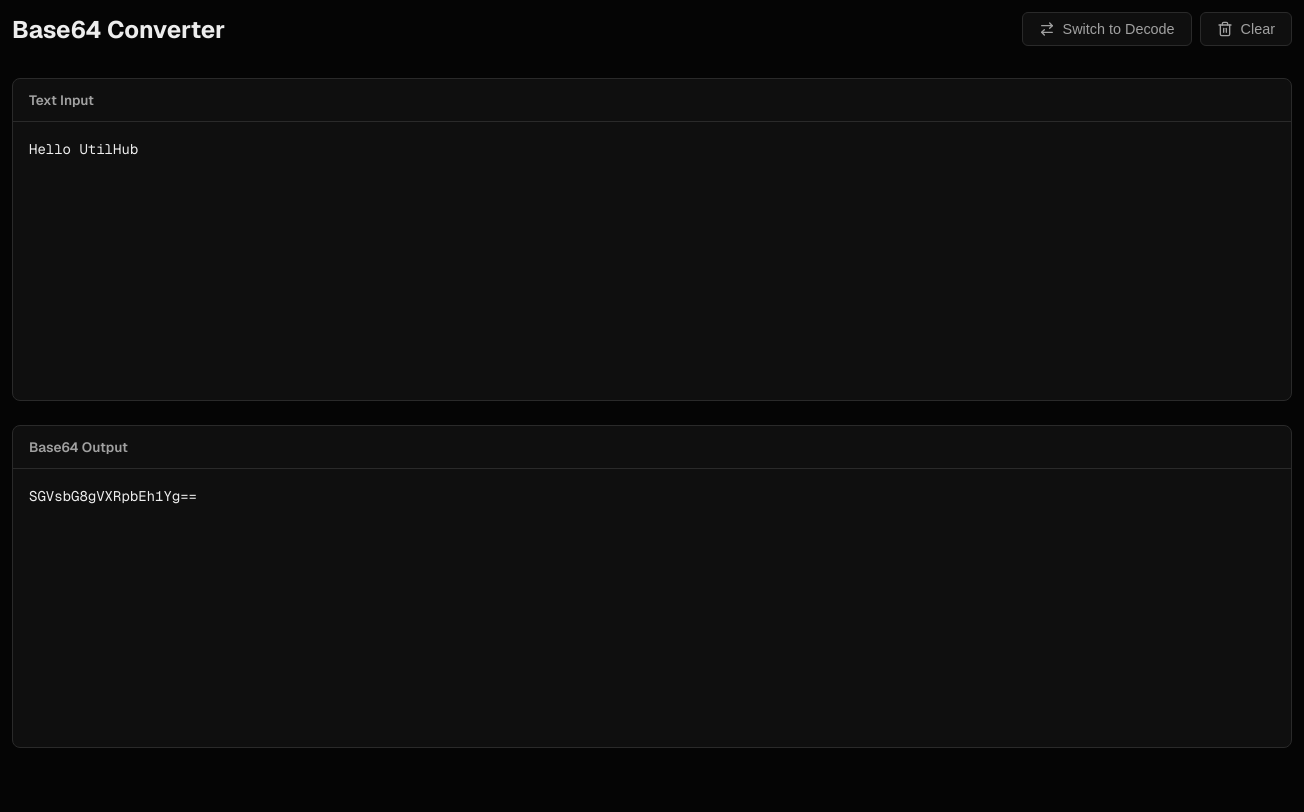
Test case: Base64Tool › switches mode and preserves decoded value
Click the button titled "Switch Mode" at (1107, 29), box [1022,12,1192,46]
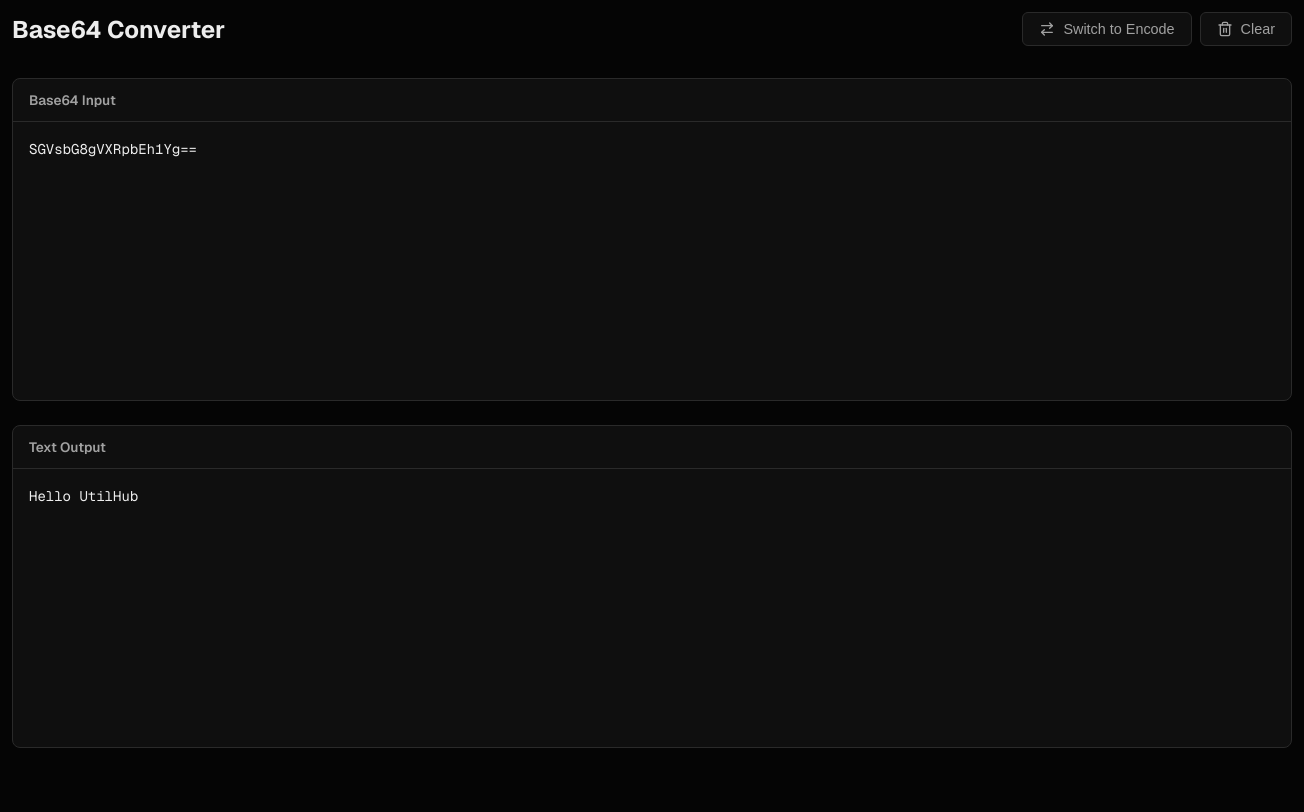
Expected: the text box with placeholder "Result will appear here..." below "Text Output" holds "Hello UtilHub", [13,469,1291,747]
